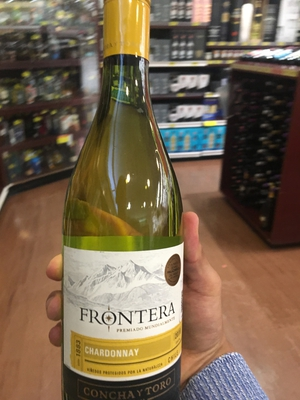frontera chardonnay: (57, 16, 192, 400)
